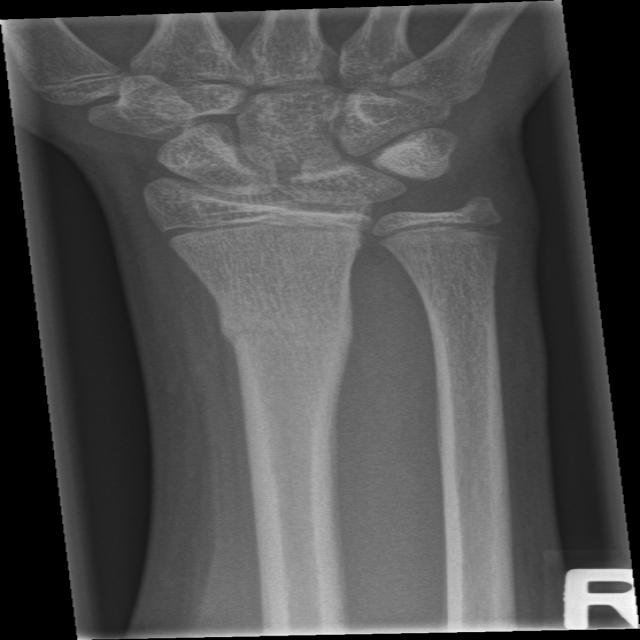radius fracture: (185, 276, 399, 448)
